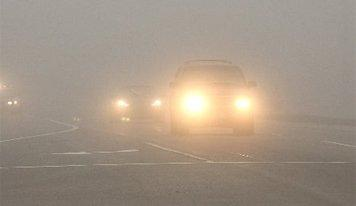car: (167, 57, 258, 138), (115, 83, 163, 123)
